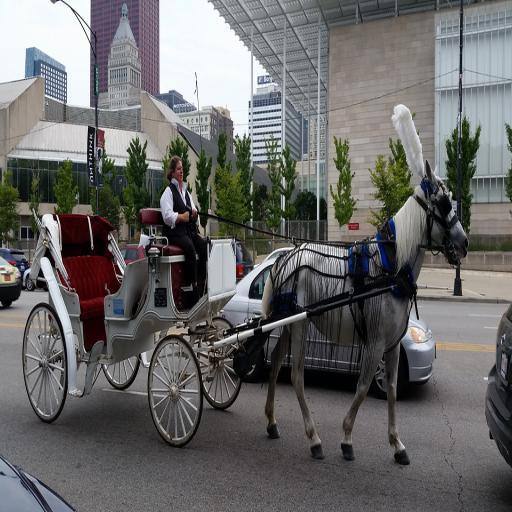horse: (261, 160, 470, 466)
